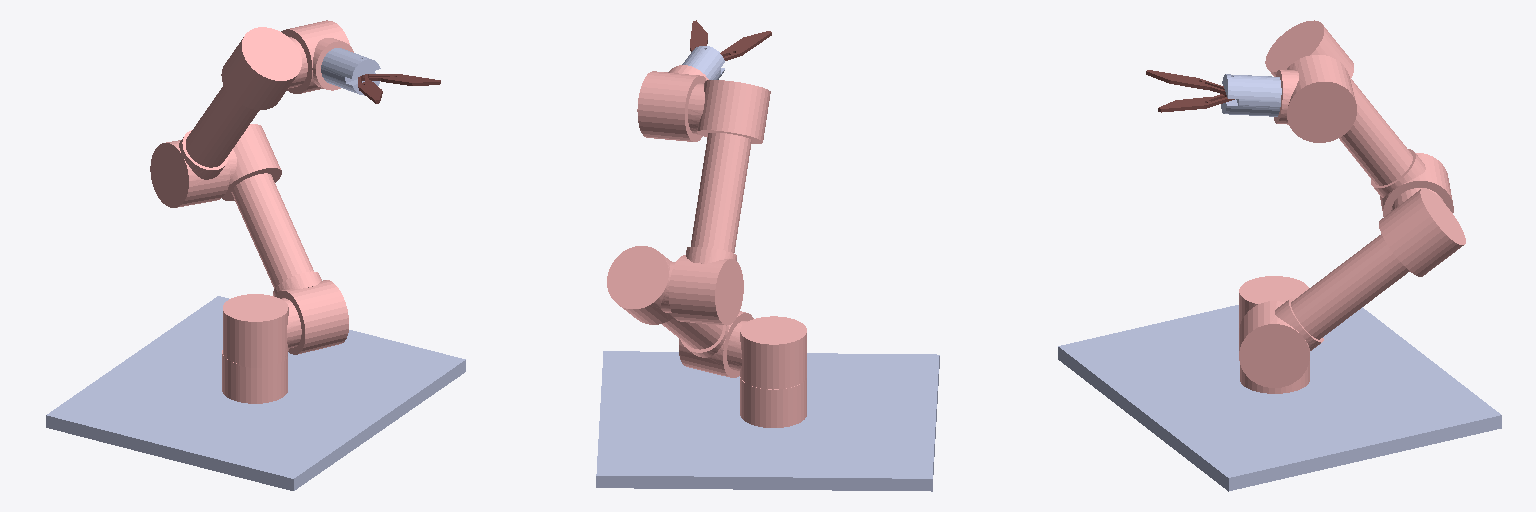
The robot description file, URDF, robot "third_assembly":
<?xml version="1.0" encoding="utf-8"?>
<!-- This URDF was automatically created by SolidWorks to URDF Exporter! Originally created by [author] ([email redacted]) 
     Commit Version: 1.6.0-1-g15f4949  Build Version: 1.6.7594.29634
     For more information, please see http://wiki.ros.org/sw_urdf_exporter -->
<robot
  name="third_assembly">
  <link
    name="base_link">
    <inertial>
      <origin
        xyz="2.0817E-17 1.3878E-17 0.006223"
        rpy="0 0 0" />
      <mass
        value="0.98646" />
      <inertia
        ixx="0.0061163"
        ixy="-0.00073023"
        ixz="1.5379E-18"
        iyy="0.0070555"
        iyz="1.8077E-19"
        izz="0.013146" />
    </inertial>
    <visual>
      <origin
        xyz="0 0 0"
        rpy="0 0 0" />
      <geometry>
        <mesh
          filename="package://third_assembly/meshes/base_link.STL" />
      </geometry>
      <material
        name="">
        <color
          rgba="0.79216 0.81961 0.93333 1" />
      </material>
    </visual>
    <collision>
      <origin
        xyz="0 0 0"
        rpy="0 0 0" />
      <geometry>
        <mesh
          filename="package://third_assembly/meshes/base_link.STL" />
      </geometry>
    </collision>
  </link>
  <link
    name="l1">
    <inertial>
      <origin
        xyz="-3.4694E-18 0.018958 0"
        rpy="0 0 0" />
      <mass
        value="0.029212" />
      <inertia
        ixx="1.5525E-05"
        ixy="-4.5918E-37"
        ixz="-2.6307E-37"
        iyy="1.8884E-05"
        iyz="-3.873E-22"
        izz="1.5525E-05" />
    </inertial>
    <visual>
      <origin
        xyz="0 0 0"
        rpy="0 0 0" />
      <geometry>
        <mesh
          filename="package://third_assembly/meshes/l1.STL" />
      </geometry>
      <material
        name="">
        <color
          rgba="1 0.75294 0.75294 1" />
      </material>
    </visual>
    <collision>
      <origin
        xyz="0 0 0"
        rpy="0 0 0" />
      <geometry>
        <mesh
          filename="package://third_assembly/meshes/l1.STL" />
      </geometry>
    </collision>
  </link>
  <joint
    name="j1"
    type="revolute">
    <origin
      xyz="-0.0034011 -0.0042672 0.012446"
      rpy="1.5708 0 -1.0711" />
    <parent
      link="base_link" />
    <child
      link="l1" />
    <axis
      xyz="0.47912 0 -0.87775" />
    <limit
      lower="-1.57"
      upper="1.57"
      effort="10"
      velocity="10" />
  </joint>
  <link
    name="l2">
    <inertial>
      <origin
        xyz="4.5228E-08 0.020992 0.0040388"
        rpy="0 0 0" />
      <mass
        value="0.044873" />
      <inertia
        ixx="2.9955E-05"
        ixy="-7.8771E-11"
        ixz="-8.1499E-11"
        iyy="2.9355E-05"
        iyz="-3.6398E-07"
        izz="2.7058E-05" />
    </inertial>
    <visual>
      <origin
        xyz="0 0 0"
        rpy="0 0 0" />
      <geometry>
        <mesh
          filename="package://third_assembly/meshes/l2.STL" />
      </geometry>
      <material
        name="">
        <color
          rgba="1 0.75294 0.75294 1" />
      </material>
    </visual>
    <collision>
      <origin
        xyz="0 0 0"
        rpy="0 0 0" />
      <geometry>
        <mesh
          filename="package://third_assembly/meshes/l2.STL" />
      </geometry>
    </collision>
  </link>
  <joint
    name="j2"
    type="revolute">
    <origin
      xyz="0.00047463 0.036267 0"
      rpy="3.1416 0.49965 3.1416" />
    <parent
      link="l1" />
    <child
      link="l2" />
    <axis
      xyz="0 0 0" />
    <limit
      lower="-1.57"
      upper="1.57"
      effort="10"
      velocity="10" />
  </joint>
  <link
    name="l3">
    <inertial>
      <origin
        xyz="1.5869E-07 0.014284 0.0040387"
        rpy="0 0 0" />
      <mass
        value="0.044873" />
      <inertia
        ixx="2.9955E-05"
        ixy="9.0678E-11"
        ixz="-1.4223E-10"
        iyy="2.9355E-05"
        iyz="-3.6397E-07"
        izz="2.7058E-05" />
    </inertial>
    <visual>
      <origin
        xyz="0 0 0"
        rpy="0 0 0" />
      <geometry>
        <mesh
          filename="package://third_assembly/meshes/l3.STL" />
      </geometry>
      <material
        name="">
        <color
          rgba="1 0.75294 0.75294 1" />
      </material>
    </visual>
    <collision>
      <origin
        xyz="0 0 0"
        rpy="0 0 0" />
      <geometry>
        <mesh
          filename="package://third_assembly/meshes/l3.STL" />
      </geometry>
    </collision>
  </link>
  <joint
    name="j3"
    type="revolute">
    <origin
      xyz="0 0.023 0.041707"
      rpy="1.5708 0 2.2676" />
    <parent
      link="l2" />
    <child
      link="l3" />
    <axis
      xyz="0 1 0" />
    <limit
      lower="-1.57"
      upper="1.57"
      effort="10"
      velocity="10" />
  </joint>
  <link
    name="l4">
    <inertial>
      <origin
        xyz="-3.7678E-15 8.4655E-16 -0.018642"
        rpy="0 0 0" />
      <mass
        value="0.064795" />
      <inertia
        ixx="7.987E-05"
        ixy="-5.0822E-21"
        ixz="-3.5152E-20"
        iyy="7.987E-05"
        iyz="-5.9292E-21"
        izz="1.8835E-05" />
    </inertial>
    <visual>
      <origin
        xyz="0 0 0"
        rpy="0 0 0" />
      <geometry>
        <mesh
          filename="package://third_assembly/meshes/l4.STL" />
      </geometry>
      <material
        name="">
        <color
          rgba="1 0.75294 0.75294 1" />
      </material>
    </visual>
    <collision>
      <origin
        xyz="0 0 0"
        rpy="0 0 0" />
      <geometry>
        <mesh
          filename="package://third_assembly/meshes/l4.STL" />
      </geometry>
    </collision>
  </link>
  <joint
    name="j4"
    type="revolute">
    <origin
      xyz="0 0.016293 0.063131"
      rpy="3.1416 0 -1.7057" />
    <parent
      link="l3" />
    <child
      link="l4" />
    <axis
      xyz="0 0 1" />
    <limit
      lower="-1.57"
      upper="1.57"
      effort="10"
      velocity="10" />
  </joint>
  <link
    name="l5">
    <inertial>
      <origin
        xyz="-6.5526E-08 0.022196 0.0040388"
        rpy="0 0 0" />
      <mass
        value="0.044873" />
      <inertia
        ixx="2.9955E-05"
        ixy="6.229E-11"
        ixz="8.0734E-12"
        iyy="2.9355E-05"
        iyz="-3.6398E-07"
        izz="2.7058E-05" />
    </inertial>
    <visual>
      <origin
        xyz="0 0 0"
        rpy="0 0 0" />
      <geometry>
        <mesh
          filename="package://third_assembly/meshes/l5.STL" />
      </geometry>
      <material
        name="">
        <color
          rgba="1 0.75294 0.75294 1" />
      </material>
    </visual>
    <collision>
      <origin
        xyz="0 0 0"
        rpy="0 0 0" />
      <geometry>
        <mesh
          filename="package://third_assembly/meshes/l5.STL" />
      </geometry>
    </collision>
  </link>
  <joint
    name="j5"
    type="revolute">
    <origin
      xyz="0 0 -0.075664"
      rpy="-1.5708 0 -1.8497" />
    <parent
      link="l4" />
    <child
      link="l5" />
    <axis
      xyz="0 1 0" />
    <limit
      lower="-1.57"
      upper="1.57"
      effort="10"
      velocity="10"/>
  </joint>
  <link
    name="l6">
    <inertial>
      <origin
        xyz="8.9336E-08 0.021782 0.0040388"
        rpy="0 0 0" />
      <mass
        value="0.044873" />
      <inertia
        ixx="2.9955E-05"
        ixy="3.0629E-11"
        ixz="-1.066E-10"
        iyy="2.9355E-05"
        iyz="-3.64E-07"
        izz="2.7058E-05" />
    </inertial>
    <visual>
      <origin
        xyz="0 0 0"
        rpy="0 0 0" />
      <geometry>
        <mesh
          filename="package://third_assembly/meshes/l6.STL" />
      </geometry>
      <material
        name="">
        <color
          rgba="1 0.75294 0.75294 1" />
      </material>
    </visual>
    <collision>
      <origin
        xyz="0 0 0"
        rpy="0 0 0" />
      <geometry>
        <mesh
          filename="package://third_assembly/meshes/l6.STL" />
      </geometry>
    </collision>
  </link>
  <joint
    name="j6"
    type="revolute">
    <origin
      xyz="0 0.024205 0.034209"
      rpy="1.5708 0 1.677" />
    <parent
      link="l5" />
    <child
      link="l6" />
    <axis
      xyz="0 1 0" />
    <limit
      lower="-1.57"
      upper="1.57"
      effort="10"
      velocity="10"/>
  </joint>
  <link
    name="l7">
    <inertial>
      <origin
        xyz="-2.4702E-15 2.3592E-15 -0.081558"
        rpy="0 0 0" />
      <mass
        value="0.064795" />
      <inertia
        ixx="7.987E-05"
        ixy="-6.7763E-21"
        ixz="-1.1858E-20"
        iyy="7.987E-05"
        iyz="-3.1975E-20"
        izz="1.8835E-05" />
    </inertial>
    <visual>
      <origin
        xyz="0 0 0"
        rpy="0 0 0" />
      <geometry>
        <mesh
          filename="package://third_assembly/meshes/l7.STL" />
      </geometry>
      <material
        name="">
        <color
          rgba="1 0.75294 0.75294 1" />
      </material>
    </visual>
    <collision>
      <origin
        xyz="0 0 0"
        rpy="0 0 0" />
      <geometry>
        <mesh
          filename="package://third_assembly/meshes/l7.STL" />
      </geometry>
    </collision>
  </link>
  <joint
    name="j7"
    type="revolute">
    <origin
      xyz="0 0.023791 0.00021453"
      rpy="-3.1416 0 1.1842" />
    <parent
      link="l6" />
    <child
      link="l7" />
    <axis
      xyz="0 0 1" />
    <limit
      lower="-1.57"
      upper="1.57"
      effort="10"
      velocity="10" />
  </joint>
  <link
    name="l8">
    <inertial>
      <origin
        xyz="1.3167E-08 0.066688 0.0040388"
        rpy="0 0 0" />
      <mass
        value="0.044873" />
      <inertia
        ixx="2.9955E-05"
        ixy="-7.2764E-11"
        ixz="-4.7665E-11"
        iyy="2.9355E-05"
        iyz="-3.6398E-07"
        izz="2.7058E-05" />
    </inertial>
    <visual>
      <origin
        xyz="0 0 0"
        rpy="0 0 0" />
      <geometry>
        <mesh
          filename="package://third_assembly/meshes/l8.STL" />
      </geometry>
      <material
        name="">
        <color
          rgba="1 0.75294 0.75294 1" />
      </material>
    </visual>
    <collision>
      <origin
        xyz="0 0 0"
        rpy="0 0 0" />
      <geometry>
        <mesh
          filename="package://third_assembly/meshes/l8.STL" />
      </geometry>
    </collision>
  </link>
  <joint
    name="j8"
    type="revolute">
    <origin
      xyz="0 0 -0.094089"
      rpy="-1.5708 0 1.1416" />
    <parent
      link="l7" />
    <child
      link="l8" />
    <axis
      xyz="0 1 0" />
    <limit
      lower="-1.57"
      upper="1.57"
      effort="10"
      velocity="10"/>
  </joint>
  <link
    name="l9">
    <inertial>
      <origin
        xyz="3.6349E-08 0.024436 0.0040387"
        rpy="0 0 0" />
      <mass
        value="0.044873" />
      <inertia
        ixx="2.9955E-05"
        ixy="-7.3564E-11"
        ixz="-7.8241E-11"
        iyy="2.9355E-05"
        iyz="-3.6399E-07"
        izz="2.7058E-05" />
    </inertial>
    <visual>
      <origin
        xyz="0 0 0"
        rpy="0 0 0" />
      <geometry>
        <mesh
          filename="package://third_assembly/meshes/l9.STL" />
      </geometry>
      <material
        name="">
        <color
          rgba="1 0.75294 0.75294 1" />
      </material>
    </visual>
    <collision>
      <origin
        xyz="0 0 0"
        rpy="0 0 0" />
      <geometry>
        <mesh
          filename="package://third_assembly/meshes/l9.STL" />
      </geometry>
    </collision>
  </link>
  <joint
    name="j9"
    type="revolute">
    <origin
      xyz="0 0.068696 0.031555"
      rpy="1.5708 0 -2.2881" />
    <parent
      link="l8" />
    <child
      link="l9" />
    <axis
      xyz="0 1 0" />
    <limit
      lower="-1.57"
      upper="1.57"
      effort="10"
      velocity="10" />
  </joint>
  <link
    name="l10">
    <inertial>
      <origin
        xyz="6.5348E-11 0.029669 3.2495E-10"
        rpy="0 0 0" />
      <mass
        value="0.088377" />
      <inertia
        ixx="7.7145E-05"
        ixy="-3.225E-13"
        ixz="-8.5569E-15"
        iyy="1.2877E-05"
        iyz="-1.9362E-12"
        izz="7.6969E-05" />
    </inertial>
    <visual>
      <origin
        xyz="0 0 0"
        rpy="0 0 0" />
      <geometry>
        <mesh
          filename="package://third_assembly/meshes/l10.STL" />
      </geometry>
      <material
        name="">
        <color
          rgba="0.79216 0.81961 0.93333 1" />
      </material>
    </visual>
    <collision>
      <origin
        xyz="0 0 0"
        rpy="0 0 0" />
      <geometry>
        <mesh
          filename="package://third_assembly/meshes/l10.STL" />
      </geometry>
    </collision>
  </link>
  <joint
    name="j10"
    type="revolute">
    <origin
      xyz="0 0.026445 0"
      rpy="1.5708 0 1.6792" />
    <parent
      link="l9" />
    <child
      link="l10" />
    <axis
      xyz="0 1 0" />
    <limit
      lower="-1.57"
      upper="1.57"
      effort="10"
      velocity="10"/>
  </joint>
  <link
    name="g1">
    <inertial>
      <origin
        xyz="0.014886 -0.0016625 -0.050161"
        rpy="0 0 0" />
      <mass
        value="0.023748" />
      <inertia
        ixx="9.1684E-06"
        ixy="-1.5551E-21"
        ixz="1.763E-06"
        iyy="9.8848E-06"
        iyz="7.0939E-21"
        izz="7.5624E-07" />
    </inertial>
    <visual>
      <origin
        xyz="0 0 0"
        rpy="0 0 0" />
      <geometry>
        <mesh
          filename="package://third_assembly/meshes/g1.STL" />
      </geometry>
      <material
        name="">
        <color
          rgba="0.53725 0.34902 0.33725 1" />
      </material>
    </visual>
    <collision>
      <origin
        xyz="0 0 0"
        rpy="0 0 0" />
      <geometry>
        <mesh
          filename="package://third_assembly/meshes/g1.STL" />
      </geometry>
    </collision>
  </link>
  <joint
    name="g1l"
    type="revolute">
    <origin
      xyz="0 0.060136 0"
      rpy="1.5708 0 0.6472" />
    <parent
      link="l10" />
    <child
      link="g1" />
    <axis
      xyz="0.60295 0 -0.79778" />
    <limit
      lower="-1.57"
      upper="1.57"
      effort="10"
      velocity="10" />
  </joint>
  <link
    name="g2">
    <inertial>
      <origin
        xyz="0.015228 -0.0016625 -0.049894"
        rpy="0 0 0" />
      <mass
        value="0.023748" />
      <inertia
        ixx="9.1684E-06"
        ixy="1.1779E-21"
        ixz="1.763E-06"
        iyy="9.8848E-06"
        iyz="-7.5505E-21"
        izz="7.5624E-07" />
    </inertial>
    <visual>
      <origin
        xyz="0 0 0"
        rpy="0 0 0" />
      <geometry>
        <mesh
          filename="package://third_assembly/meshes/g2.STL" />
      </geometry>
      <material
        name="">
        <color
          rgba="0.53725 0.34902 0.33725 1" />
      </material>
    </visual>
    <collision>
      <origin
        xyz="0 0 0"
        rpy="0 0 0" />
      <geometry>
        <mesh
          filename="package://third_assembly/meshes/g2.STL" />
      </geometry>
    </collision>
  </link>
  <joint
    name="g2l"
    type="revolute">
    <origin
      xyz="0 0.060136 0"
      rpy="-1.5708 0 2.4669" />
    <parent
      link="l10" />
    <child
      link="g2" />
    <axis
      xyz="0.62468 0 -0.78088" />
    <limit
      lower="-1.57"
      upper="1.57"
      effort="10"
      velocity="10" />
  </joint>
  <link 
     name="dummy">
  </link>
  <joint
     name="dummy_joint"
     type="fixed">
    <parent
      link="dummy"/>
    <child
      link="base_link"/>
  </joint>
  <transmission name="simple_trans_j">
    <type>transmission_interface/SimpleTransmission</type>
    <joint name="j1">
      <hardwareInterface>hardware_interface/EffortJointInterface</hardwareInterface>
    </joint>
    <actuator name="link1_actuator">
      <mechanicalReduction>1</mechanicalReduction>
      <hardwareInterface>hardware_interface/EffortJointInterface</hardwareInterface>
    </actuator>
  </transmission>
  <transmission name="simple_trans_j2">
    <type>transmission_interface/SimpleTransmission</type>
    <joint name="j2">
      <hardwareInterface>hardware_interface/EffortJointInterface</hardwareInterface>
    </joint>
    <actuator name="link2_actuator">
      <mechanicalReduction>1</mechanicalReduction>
      <hardwareInterface>hardware_interface/EffortJointInterface</hardwareInterface>
    </actuator>
  </transmission>
  <transmission name="simple_trans_j3">
    <type>transmission_interface/SimpleTransmission</type>
    <joint name="j3">
      <hardwareInterface>hardware_interface/EffortJointInterface</hardwareInterface>
    </joint>
    <actuator name="link3_actuator">
      <mechanicalReduction>1</mechanicalReduction>
      <hardwareInterface>hardware_interface/EffortJointInterface</hardwareInterface>
    </actuator>
  </transmission>
  <transmission name="simple_trans_j4">
    <type>transmission_interface/SimpleTransmission</type>
    <joint name="j4">
      <hardwareInterface>hardware_interface/EffortJointInterface</hardwareInterface>
    </joint>
    <actuator name="link4_actuator">
      <mechanicalReduction>1</mechanicalReduction>
      <hardwareInterface>hardware_interface/EffortJointInterface</hardwareInterface>
    </actuator>
  </transmission>
  <transmission name="simple_trans_j5">
    <type>transmission_interface/SimpleTransmission</type>
    <joint name="j5">
      <hardwareInterface>hardware_interface/EffortJointInterface</hardwareInterface>
    </joint>
    <actuator name="link5_actuator">
      <mechanicalReduction>1</mechanicalReduction>
      <hardwareInterface>hardware_interface/EffortJointInterface</hardwareInterface>
    </actuator>
  </transmission>
  <transmission name="simple_trans_j6">
    <type>transmission_interface/SimpleTransmission</type>
    <joint name="j6">
      <hardwareInterface>hardware_interface/EffortJointInterface</hardwareInterface>
    </joint>
    <actuator name="link6_actuator">
      <mechanicalReduction>1</mechanicalReduction>
      <hardwareInterface>hardware_interface/EffortJointInterface</hardwareInterface>
    </actuator>
  </transmission>
  <transmission name="simple_trans_j7">
    <type>transmission_interface/SimpleTransmission</type>
    <joint name="j7">
      <hardwareInterface>hardware_interface/EffortJointInterface</hardwareInterface>
    </joint>
    <actuator name="link7_actuator">
      <mechanicalReduction>1</mechanicalReduction>
      <hardwareInterface>hardware_interface/EffortJointInterface</hardwareInterface>
    </actuator>
  </transmission>
  <transmission name="simple_trans_j8">
    <type>transmission_interface/SimpleTransmission</type>
    <joint name="j8">
      <hardwareInterface>hardware_interface/EffortJointInterface</hardwareInterface>
    </joint>
    <actuator name="link8_actuator">
      <mechanicalReduction>1</mechanicalReduction>
      <hardwareInterface>hardware_interface/EffortJointInterface</hardwareInterface>
    </actuator>
  </transmission>
  <transmission name="simple_trans_j9">
    <type>transmission_interface/SimpleTransmission</type>
    <joint name="j9">
      <hardwareInterface>hardware_interface/EffortJointInterface</hardwareInterface>
    </joint>
    <actuator name="link9_actuator">
      <mechanicalReduction>1</mechanicalReduction>
      <hardwareInterface>hardware_interface/EffortJointInterface</hardwareInterface>
    </actuator>
  </transmission>
  <transmission name="simple_trans_j10">
    <type>transmission_interface/SimpleTransmission</type>
    <joint name="j10">
      <hardwareInterface>hardware_interface/EffortJointInterface</hardwareInterface>
    </joint>
    <actuator name="link10_actuator">
      <mechanicalReduction>1</mechanicalReduction>
      <hardwareInterface>hardware_interface/EffortJointInterface</hardwareInterface>
    </actuator>
  </transmission>
  <transmission name="simple_trans_j11">
    <type>transmission_interface/SimpleTransmission</type>
    <joint name="g1l">
      <hardwareInterface>hardware_interface/EffortJointInterface</hardwareInterface>
    </joint>
    <actuator name="link11_actuator">
      <mechanicalReduction>1</mechanicalReduction>
      <hardwareInterface>hardware_interface/EffortJointInterface</hardwareInterface>
    </actuator>
  </transmission>
  <transmission name="simple_trans_j12">
    <type>transmission_interface/SimpleTransmission</type>
    <joint name="g2l">
      <hardwareInterface>hardware_interface/EffortJointInterface</hardwareInterface>
    </joint>
    <actuator name="link12_actuator">
      <mechanicalReduction>1</mechanicalReduction>
      <hardwareInterface>hardware_interface/EffortJointInterface</hardwareInterface>
    </actuator>
  </transmission>
  <gazebo>
		<plugin name="gazebo_ros_control" filename="libgazebo_ros_control.so">
			<robotNamespace>/third_assembly</robotNamespace>
			<robotSimType>gazebo_ros_control/DefaultRobotHWSim</robotSimType>
			<legacyModeNS>true</legacyModeNS>
		</plugin>
	</gazebo>
</robot>

--- Render facts (derived) ---
Views: 3 orthographic renders of the robot side by side, from view 1: azimuth 30°, elevation 25°; view 2: azimuth 150°, elevation 25°; view 3: azimuth 270°, elevation 25°.
Model third_assembly with 14 links and 13 joints (12 revolute, 1 fixed), rooted at dummy, posed all joints at 0.
Links seen in each view (by area): view 1: base_link, l8, l2, l4, l3, l6, l7, l1, l9, l5, l10, g2; view 2: base_link, l7, l6, l2, l8, l5, l9, l1, l3, l4, l10, g1; view 3: base_link, l9, l4, l3, l5, l7, l8, l10, l6, l2, g1, g2 (+1 smaller).
Link boxes in pixels (bbox=[...]): base_link: bbox=[46, 296, 465, 490]; l8: bbox=[221, 27, 307, 109]; l2: bbox=[223, 294, 301, 367]; l4: bbox=[231, 173, 313, 288]; l3: bbox=[273, 271, 348, 354]; l6: bbox=[150, 130, 229, 207]; l7: bbox=[186, 85, 259, 167]; l1: bbox=[222, 350, 287, 403]; l9: bbox=[281, 20, 353, 93]; l5: bbox=[222, 124, 281, 200]; l10: bbox=[321, 48, 380, 95]; g2: bbox=[362, 74, 440, 85]; base_link: bbox=[596, 351, 939, 491]; l7: bbox=[691, 133, 751, 252]; l6: bbox=[669, 247, 743, 325]; l2: bbox=[727, 316, 806, 389]; l8: bbox=[688, 80, 770, 143]; l5: bbox=[607, 246, 675, 324]; l9: bbox=[637, 65, 708, 141]; l1: bbox=[740, 377, 806, 427]; l3: bbox=[679, 311, 753, 377]; l4: bbox=[662, 318, 722, 349]; l10: bbox=[682, 46, 724, 79]; g1: bbox=[720, 31, 771, 60]; base_link: bbox=[1058, 305, 1501, 491]; l9: bbox=[1274, 55, 1356, 142]; l4: bbox=[1291, 234, 1409, 339]; l3: bbox=[1239, 298, 1323, 387]; l5: bbox=[1379, 188, 1465, 276]; l7: bbox=[1339, 79, 1412, 185]; l8: bbox=[1265, 20, 1353, 79]; l10: bbox=[1221, 74, 1281, 116]; l6: bbox=[1371, 149, 1453, 216]; l2: bbox=[1239, 276, 1308, 327]; g1: bbox=[1146, 70, 1226, 95]; g2: bbox=[1158, 94, 1234, 112].
Bounding box of the posed robot: 0.3903 × 0.3754 × 0.3528 m (x, y, z).
13 mesh visuals loaded from 13 distinct referenced files (13 binary STL).